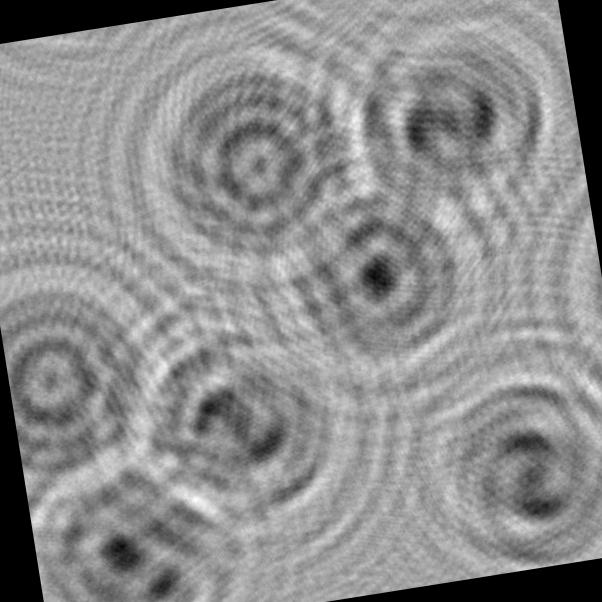P: (238, 132, 531, 436)
Q: (107, 12, 416, 315), (0, 228, 211, 533)
R: (21, 423, 279, 602)
S: (103, 256, 393, 574), (297, 0, 595, 272), (395, 335, 602, 585)
